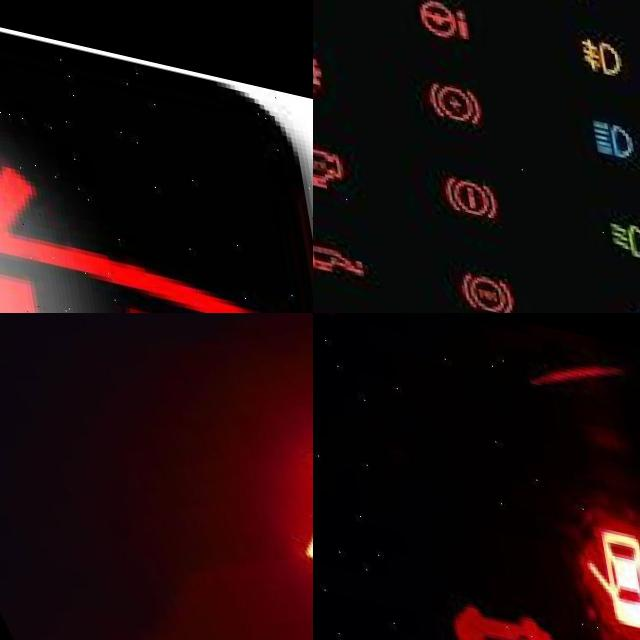Electronic Power Steering Warning: (408, 0, 469, 37)
